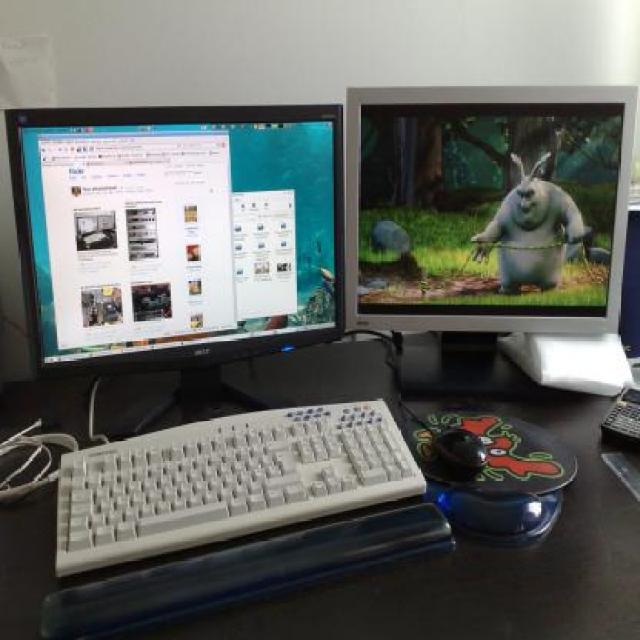komputer: (19, 108, 344, 421), (345, 81, 631, 392)
mouse: (427, 426, 494, 472)
